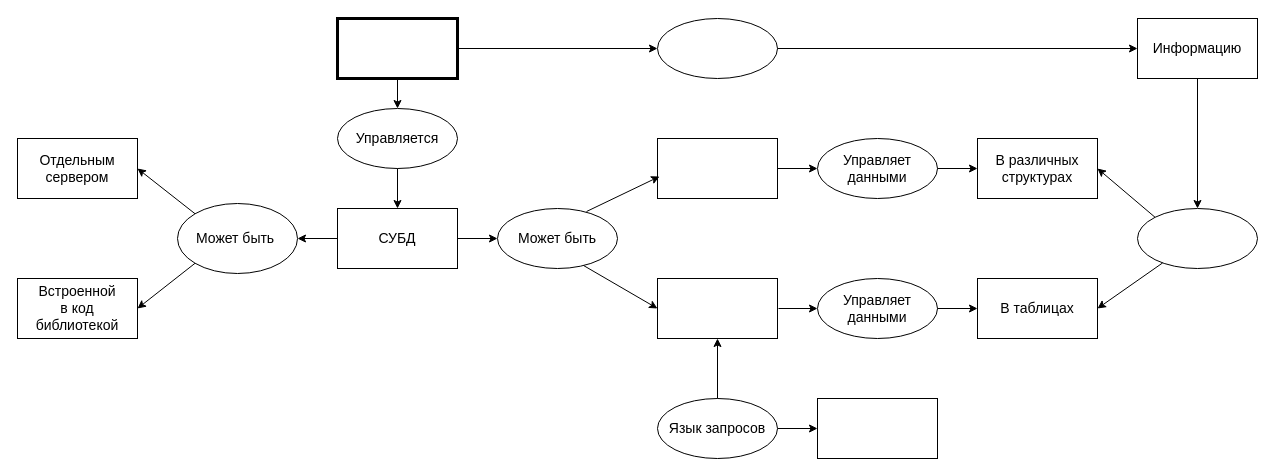
The diagram is 1275 pixels wide and 476 high, and some of its shapes have lost their labels. The box of each missing label's shape, as (x1, y1, x2, y2) in pixels:
NoSQL: (656, 138, 778, 198)
SQL: (816, 398, 938, 458)
База данных: (336, 16, 458, 80)
Данные хранятся: (1136, 208, 1258, 268)
Реляционной: (656, 278, 778, 338)
Хранит: (656, 18, 778, 78)
